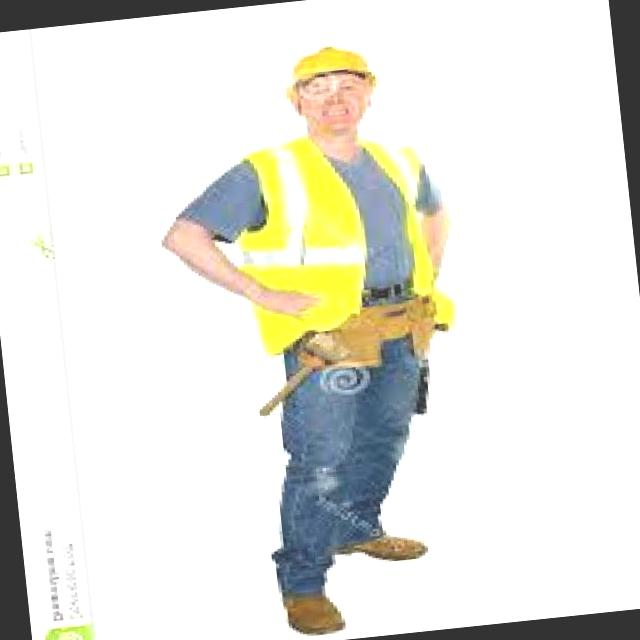boots: (329, 528, 428, 567), (276, 587, 348, 640)
no-gloves: (249, 278, 330, 331)
vest: (227, 125, 458, 360)
